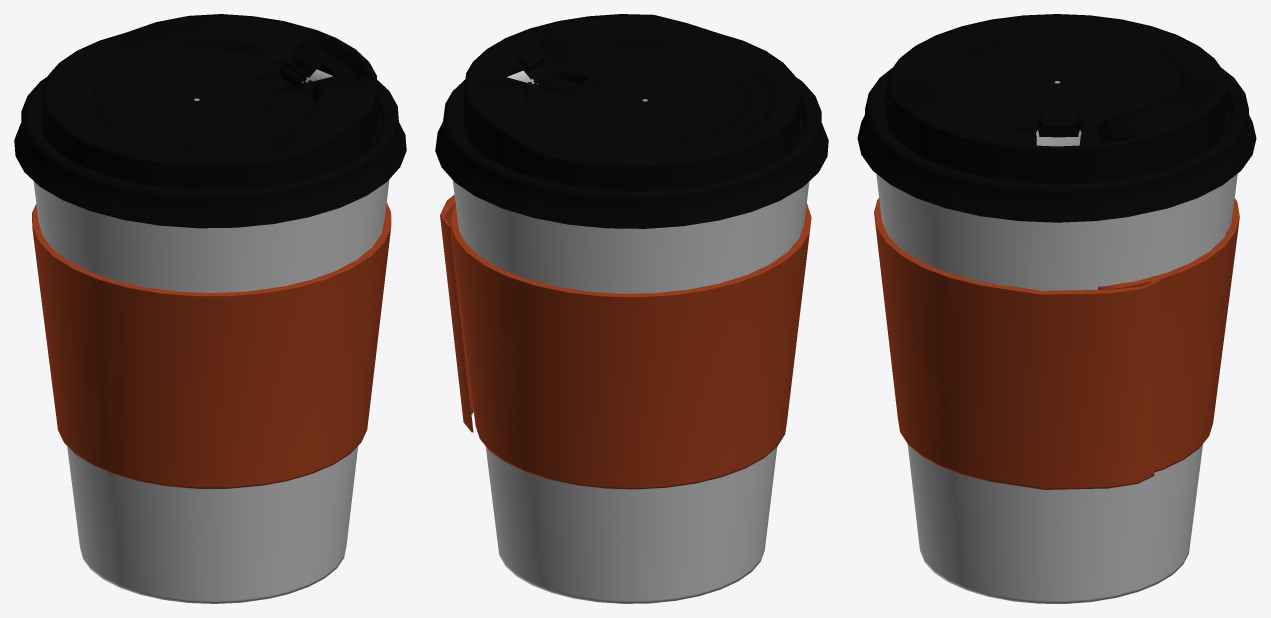
File: coffee cup.dae
3 views of the same model, side by side, from view 1: azimuth 30°, elevation 25°; view 2: azimuth 150°, elevation 25°; view 3: azimuth 270°, elevation 25° (orthographic).
Visible parts, largest first — view 1: tutmac, BardakKapagi, bardaktutmac, bardakustuKapak, bardakUstuYazi; view 2: tutmac, BardakKapagi, bardaktutmac, bardakustuKapak, bardakUstuYazi; view 3: tutmac, BardakKapagi, bardaktutmac, bardakUstuYazi, bardakustuKapak.
Part boxes in pixels (<box>): tutmac: <box>32,202,391,488</box>; BardakKapagi: <box>14,14,406,228</box>; bardaktutmac: <box>33,69,389,603</box>; bardakustuKapak: <box>281,40,328,82</box>; bardakUstuYazi: <box>91,68,280,147</box>; tutmac: <box>440,194,811,489</box>; BardakKapagi: <box>435,14,828,228</box>; bardaktutmac: <box>452,70,809,603</box>; bardakustuKapak: <box>511,42,559,84</box>; bardakUstuYazi: <box>567,64,755,143</box>; tutmac: <box>874,198,1239,489</box>; BardakKapagi: <box>857,14,1256,222</box>; bardaktutmac: <box>876,81,1237,603</box>; bardakUstuYazi: <box>960,35,1134,109</box>; bardakustuKapak: <box>1036,115,1081,130</box>.
Size of the model in its own units: 6.42 by 8.56 by 6.42.
